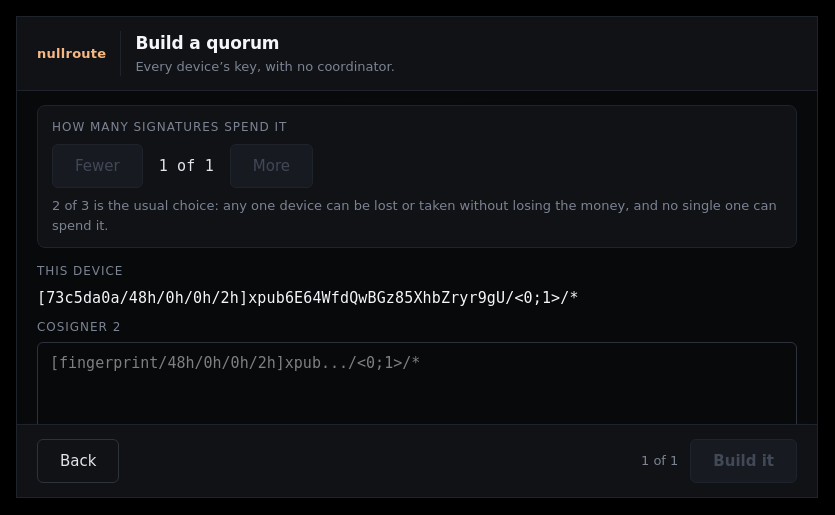
Test case: AssembleQuorumScreen threshold › never-shows-a-threshold-larger-than-the-keys-collected
Expected: the text with test id "assemble-our-key" shows "73c5da0a", [37,289,579,307]
Expected: the text with test id "assemble-threshold" reads "1 of 1", [159,155,214,177]
Type "[aabbccdd/48h/0h/0h/2h]xpub6DwwuunwScQuscvvkT8Q2gRU/<0;1>/*" into the text box with test id "assemble-key-1".
click(417, 386); type("[aabbccdd/48h/0h/0h/2h]xpub6DwwuunwScQuscvvkT8Q2gRU/<0;1>/*")  # box [37,342,797,430]
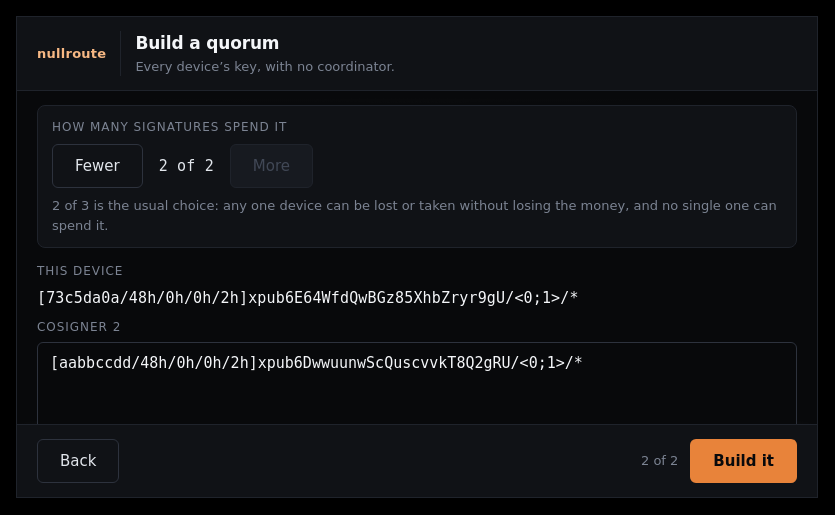
Result: the text with test id "assemble-threshold" reads "2 of 2" at [159,155,214,177]
